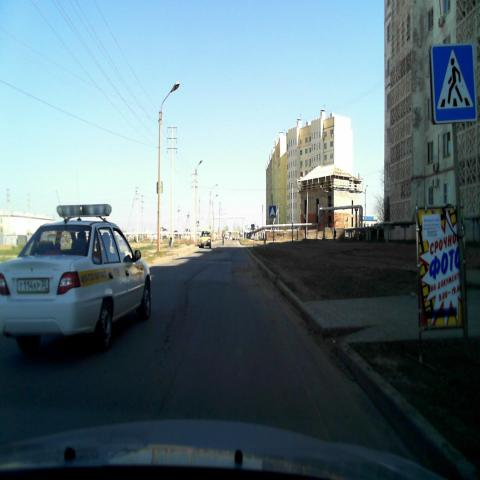5_19_1: (431, 42, 478, 124)
5_20: (269, 206, 275, 218)
